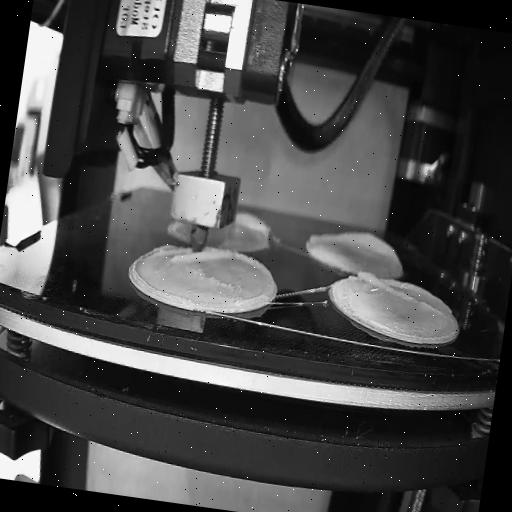over_extrusion: (354, 266, 450, 318), (308, 222, 408, 263), (228, 252, 280, 312), (152, 238, 230, 272), (232, 210, 274, 244)
